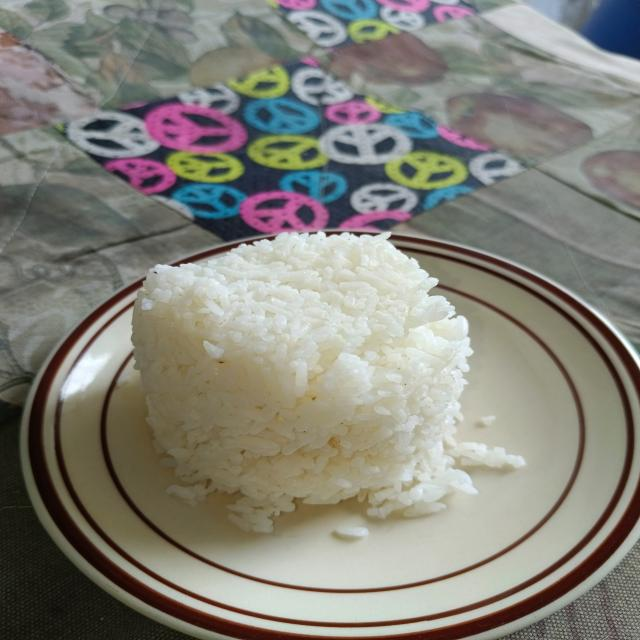Chicken -Chicken Inasal-: (130, 233, 518, 518)
